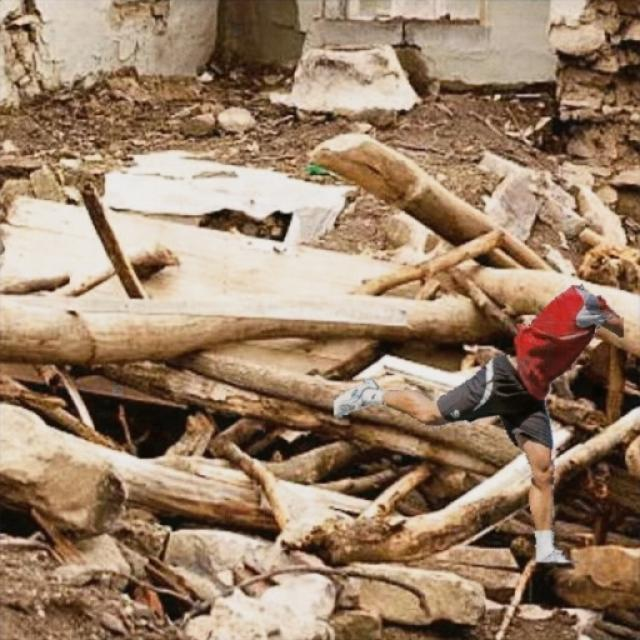Person in Rubble: (333, 284, 622, 562)
